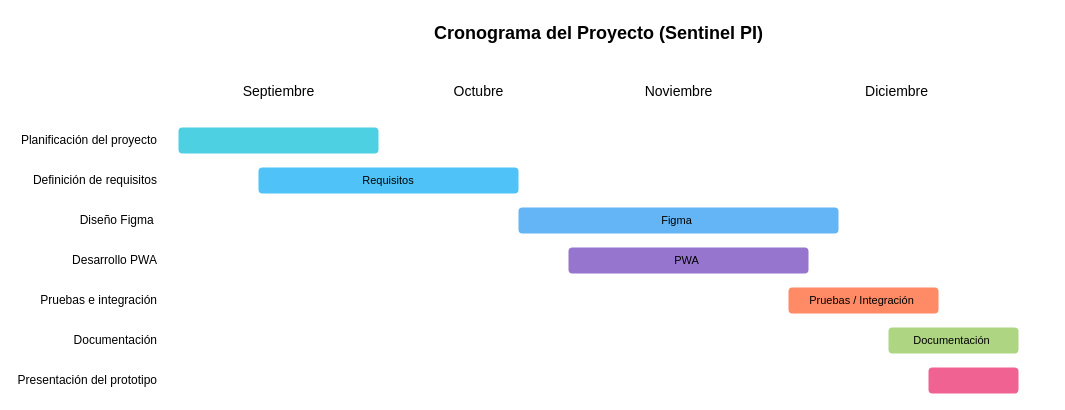
Image size: 1065x410. Some labels were removed from this diagram. Here are the shapes that lost their labels. From the top down, the box of each, then its label:
(178, 127, 378, 153): Planificación
(928, 367, 1018, 393): Presentación
